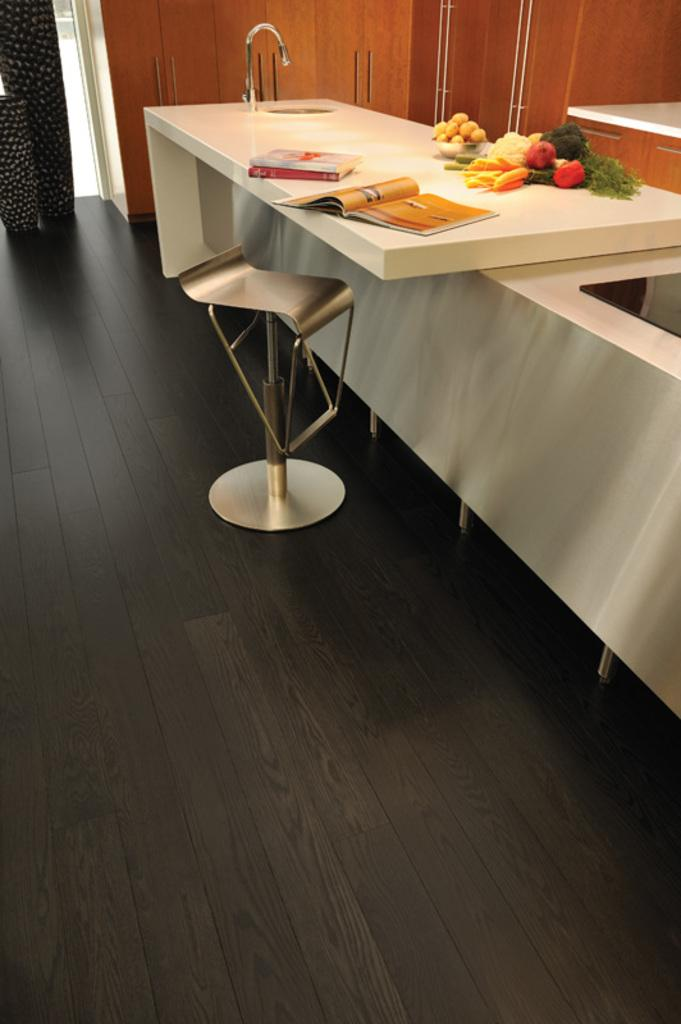Chair: (175, 246, 357, 527)
